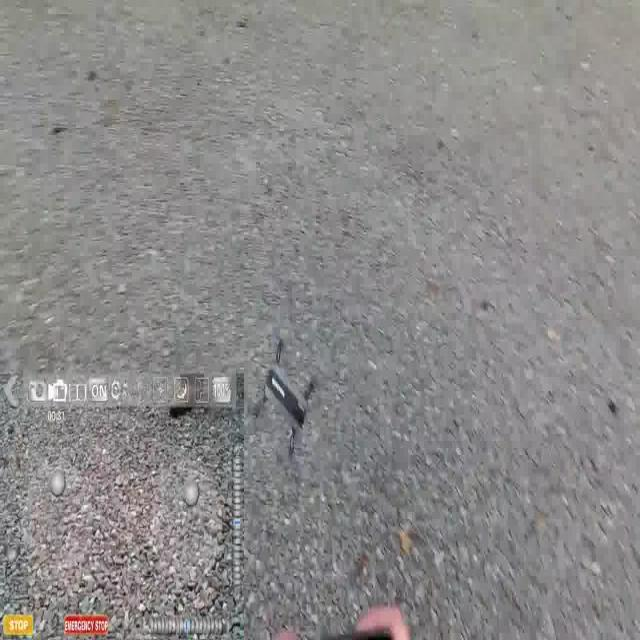drone: (249, 336, 324, 459)
